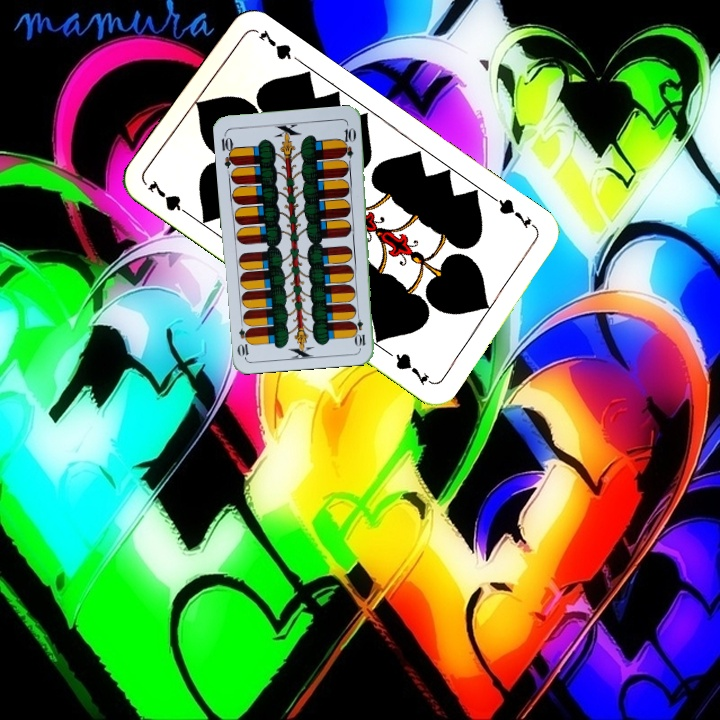E10: (217, 130, 238, 170), (352, 308, 368, 349)
G7: (143, 175, 195, 220), (489, 193, 540, 233)
